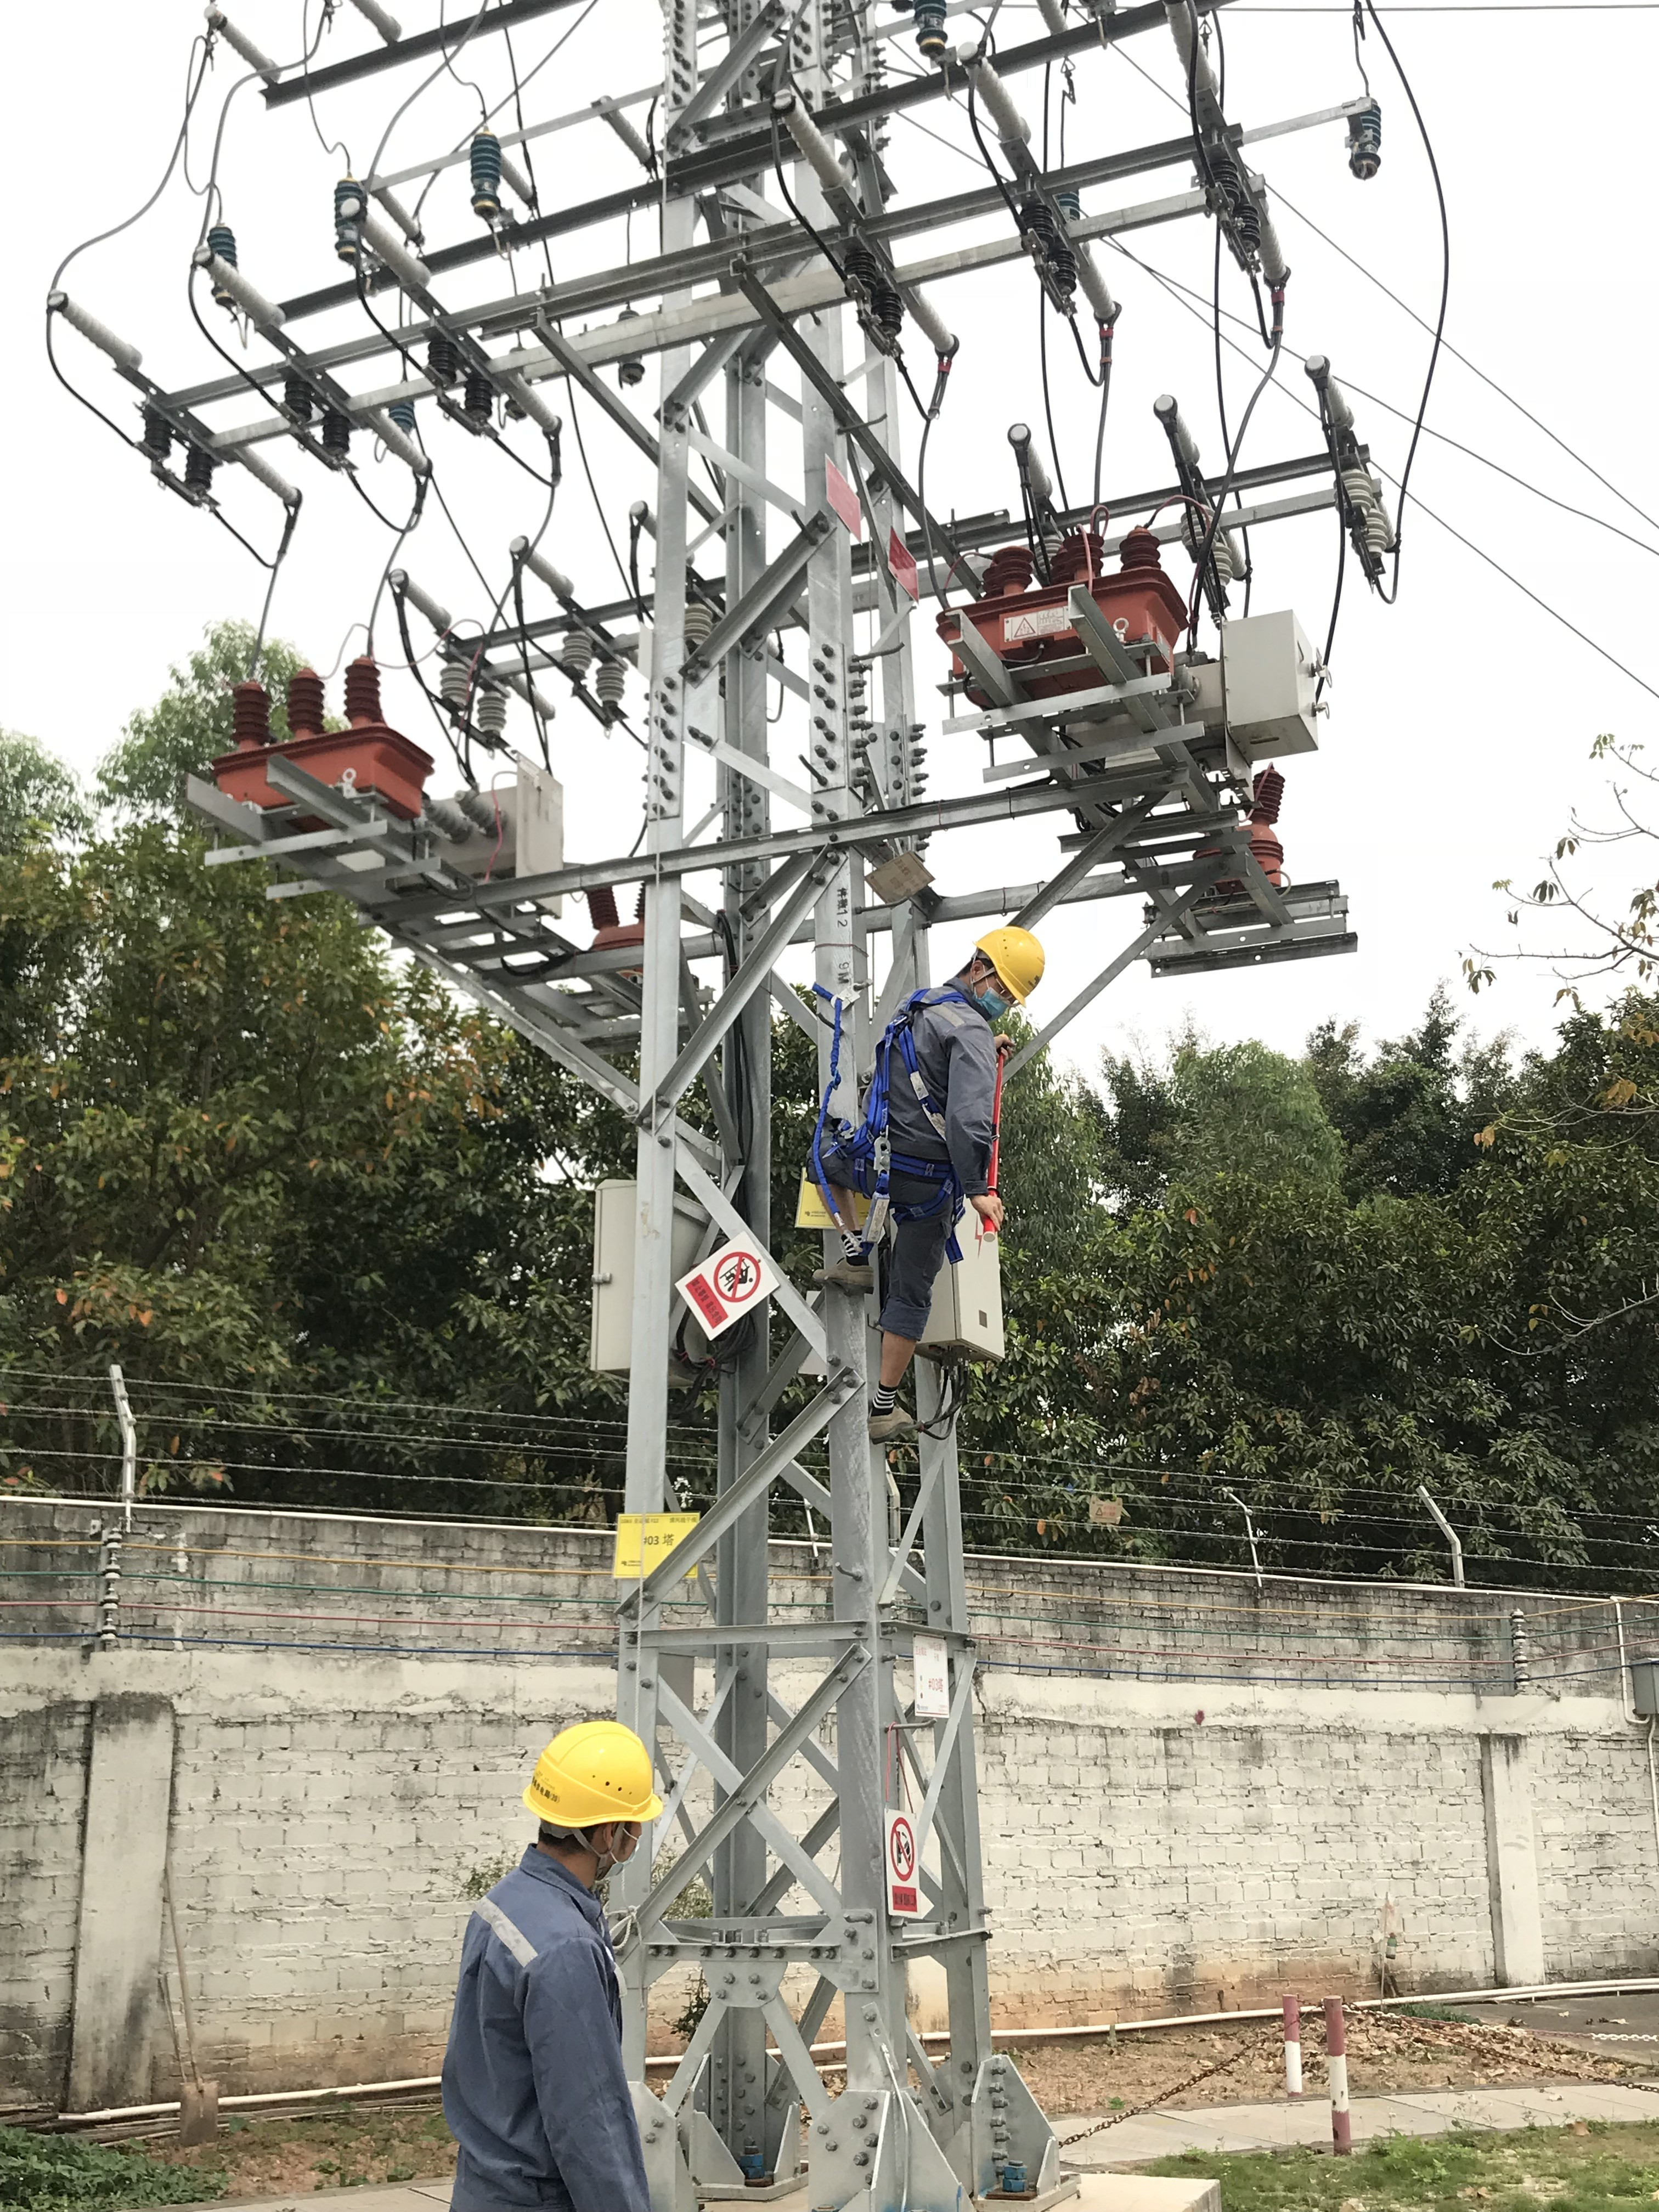downsuit: (875, 1188, 964, 1346)
upsuit: (439, 1846, 676, 2212), (868, 979, 997, 1177)
wrongbottom: (871, 1299, 927, 1400), (814, 1176, 857, 1238)
